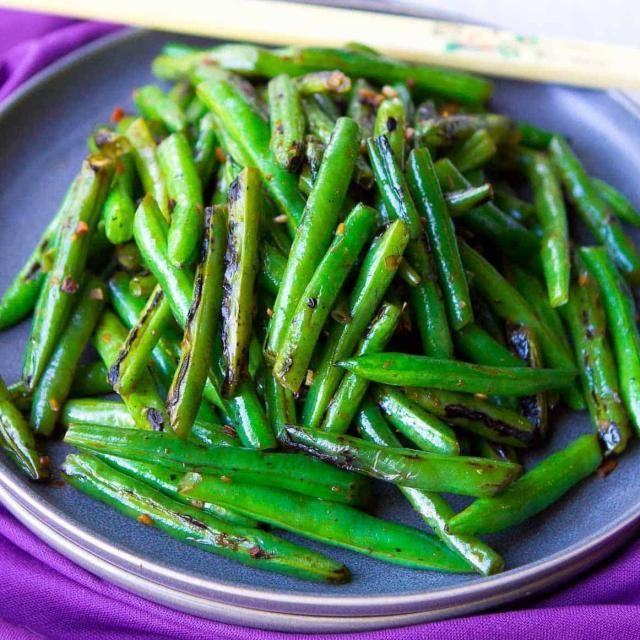Beans: (0, 36, 639, 600)
